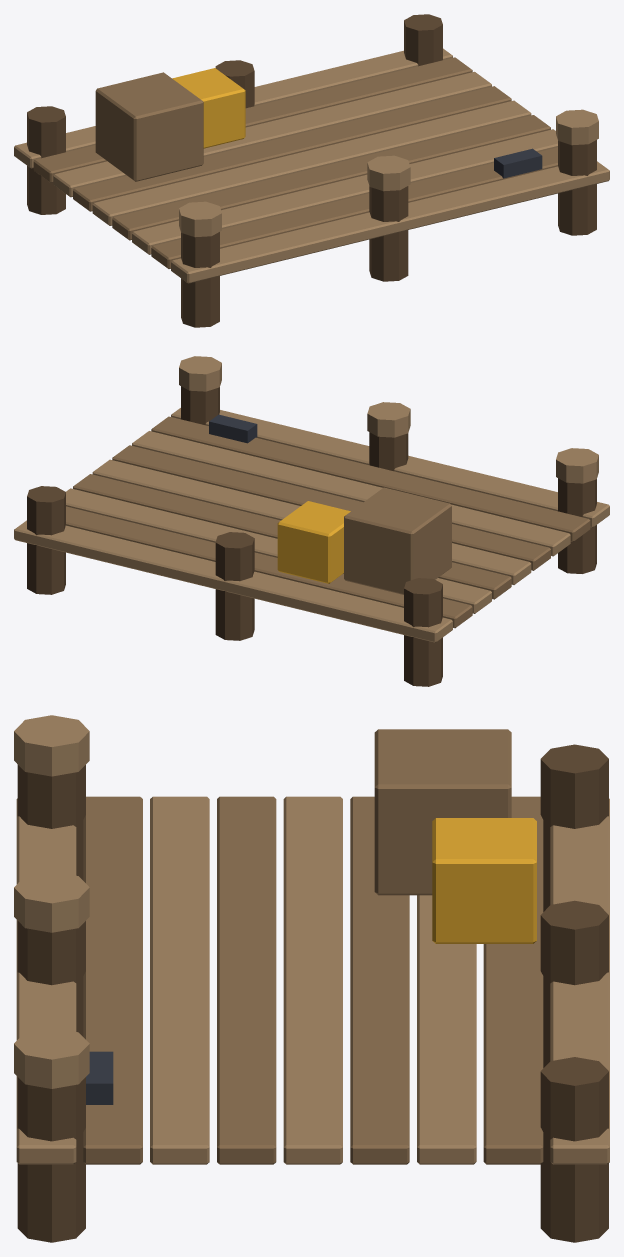
File: Stylized_Landmark_WoodenPierDock.fbx
3 views of the same model, one above another, from view 1: azimuth 30°, elevation 25°; view 2: azimuth 150°, elevation 25°; view 3: azimuth 270°, elevation 25° (orthographic). The views are drawn at different scales.
Parts seen in each view (by area): view 1: Stylized_Landmark_WoodenPierDock; view 2: Stylized_Landmark_WoodenPierDock; view 3: Stylized_Landmark_WoodenPierDock.
Part boxes in pixels (x1,y1,x2,y2): Stylized_Landmark_WoodenPierDock: (14,14,609,327); Stylized_Landmark_WoodenPierDock: (14,356,609,686); Stylized_Landmark_WoodenPierDock: (14,715,609,1242).
Bounding box in the file's own units: 4.6 × 1.3 × 3.31.
